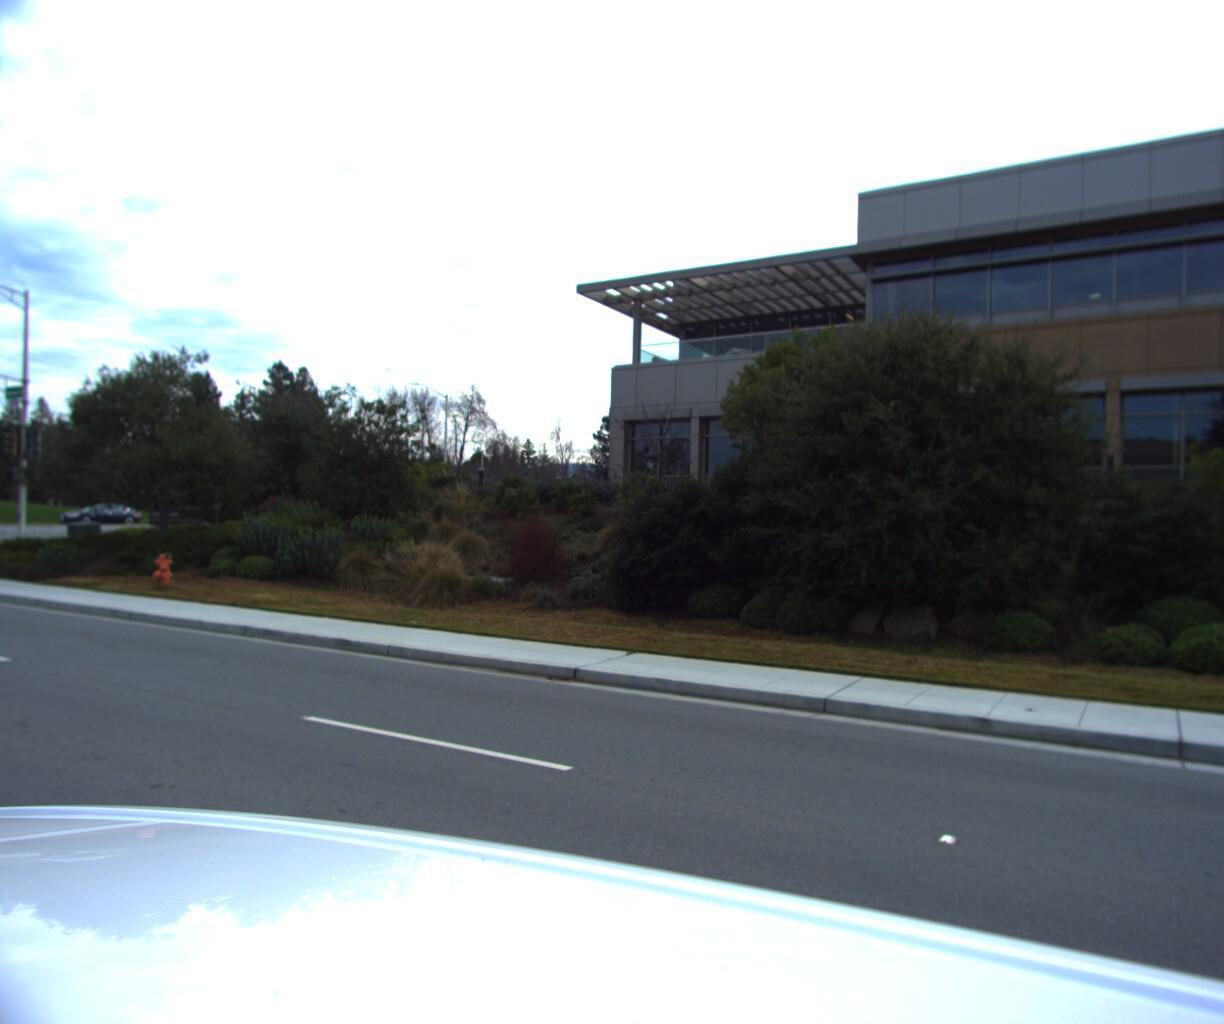car: (53, 505, 146, 530)
